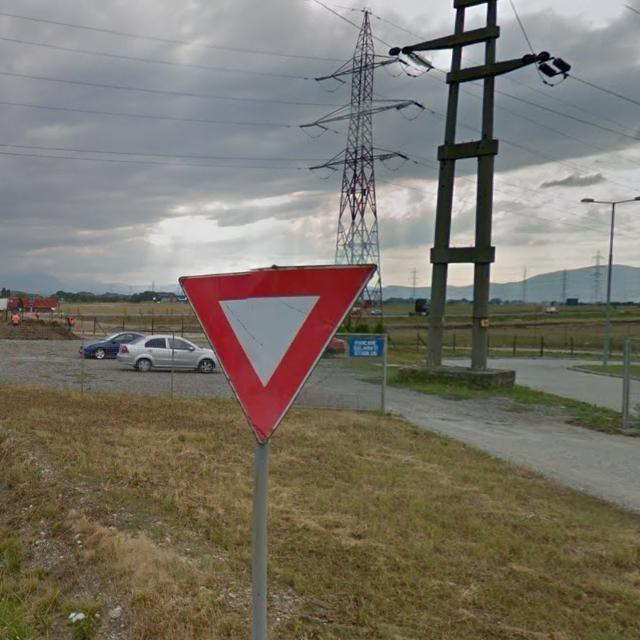prio_give_way: (178, 264, 378, 444)
